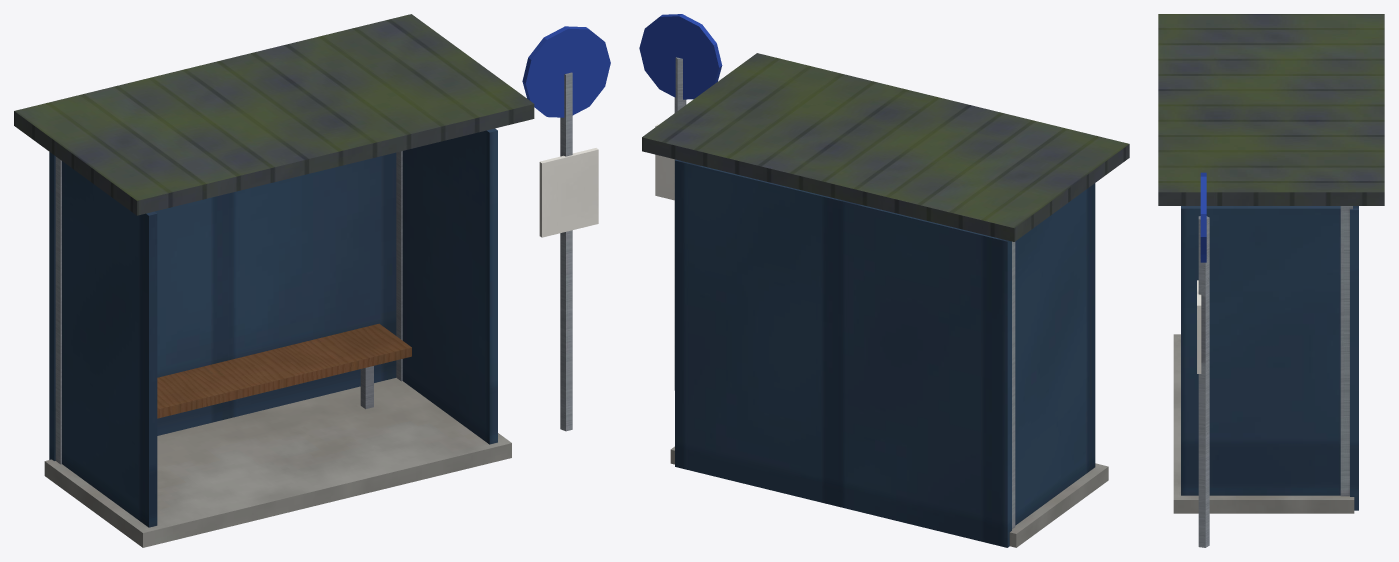
The model's file is busskur_tex.glb.
3 views of the same model, side by side, from view 1: azimuth 30°, elevation 25°; view 2: azimuth 150°, elevation 25°; view 3: azimuth 270°, elevation 25° (orthographic). The views are drawn at different scales.
Parts seen in each view (by area): view 1: busskur; view 2: busskur; view 3: busskur.
Part boxes in pixels (<box>): busskur: <box>14,14,610,547</box>; busskur: <box>639,14,1129,547</box>; busskur: <box>1158,14,1384,547</box>.
Size of the model in its own units: 3.5 by 2.7 by 1.5.
Materials: 7 (6 with a texture image).
